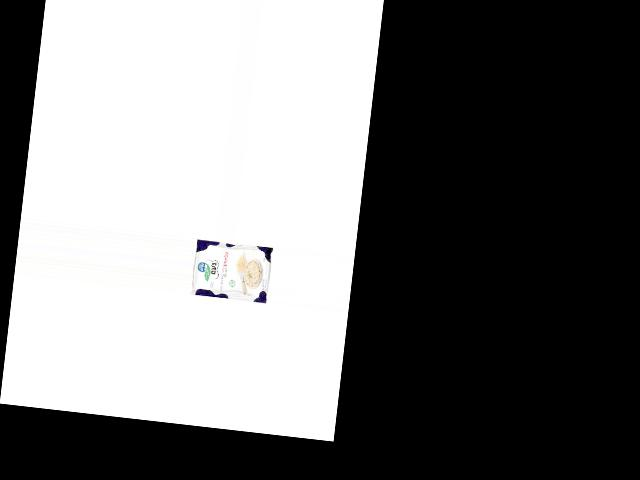cheese: (190, 237, 274, 304)
